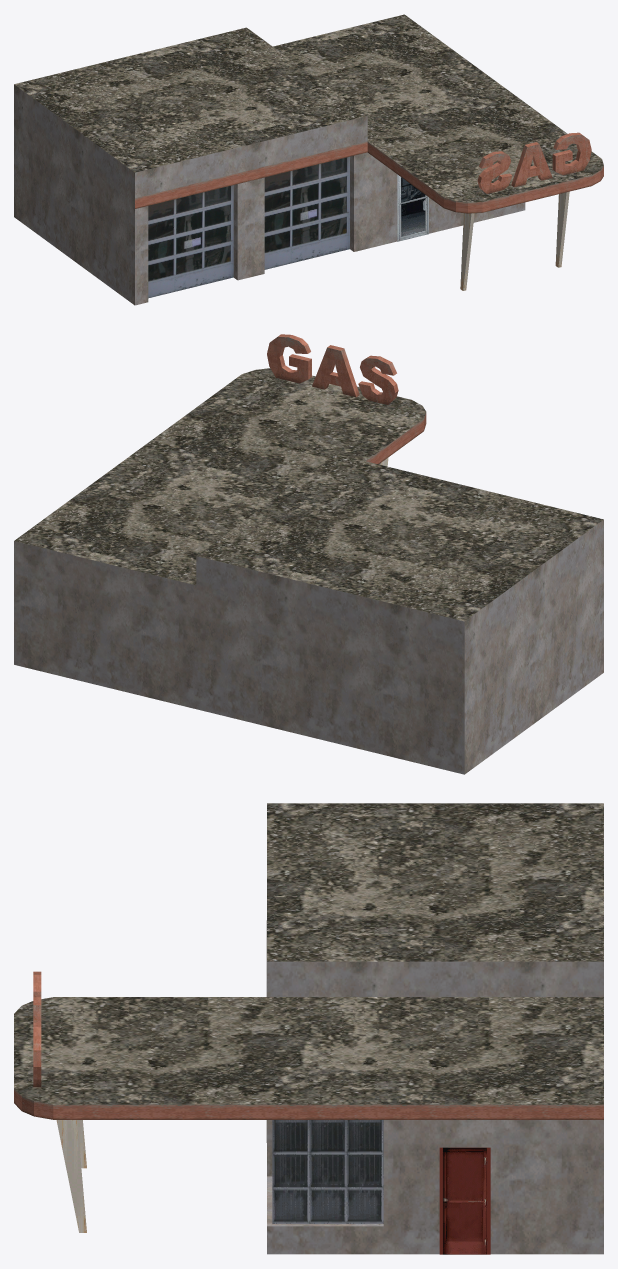
Rendered from des_ngassta.obj.
3 renders of one model, top to bottom at view 1: azimuth 30°, elevation 25°; view 2: azimuth 150°, elevation 25°; view 3: azimuth 270°, elevation 25°, orthographic. The views are drawn at different scales.
Visible parts, largest first — view 1: des_ngassta; view 2: des_ngassta; view 3: des_ngassta.
Boxes of the visible parts, box(x1,y1,x2,y2) form: des_ngassta: box(14, 14, 603, 305); des_ngassta: box(14, 334, 603, 774); des_ngassta: box(14, 803, 603, 1254).
Bounding box in the file's own units: 11.21 × 3.97 × 10.5.
9 materials, 9 textured.
